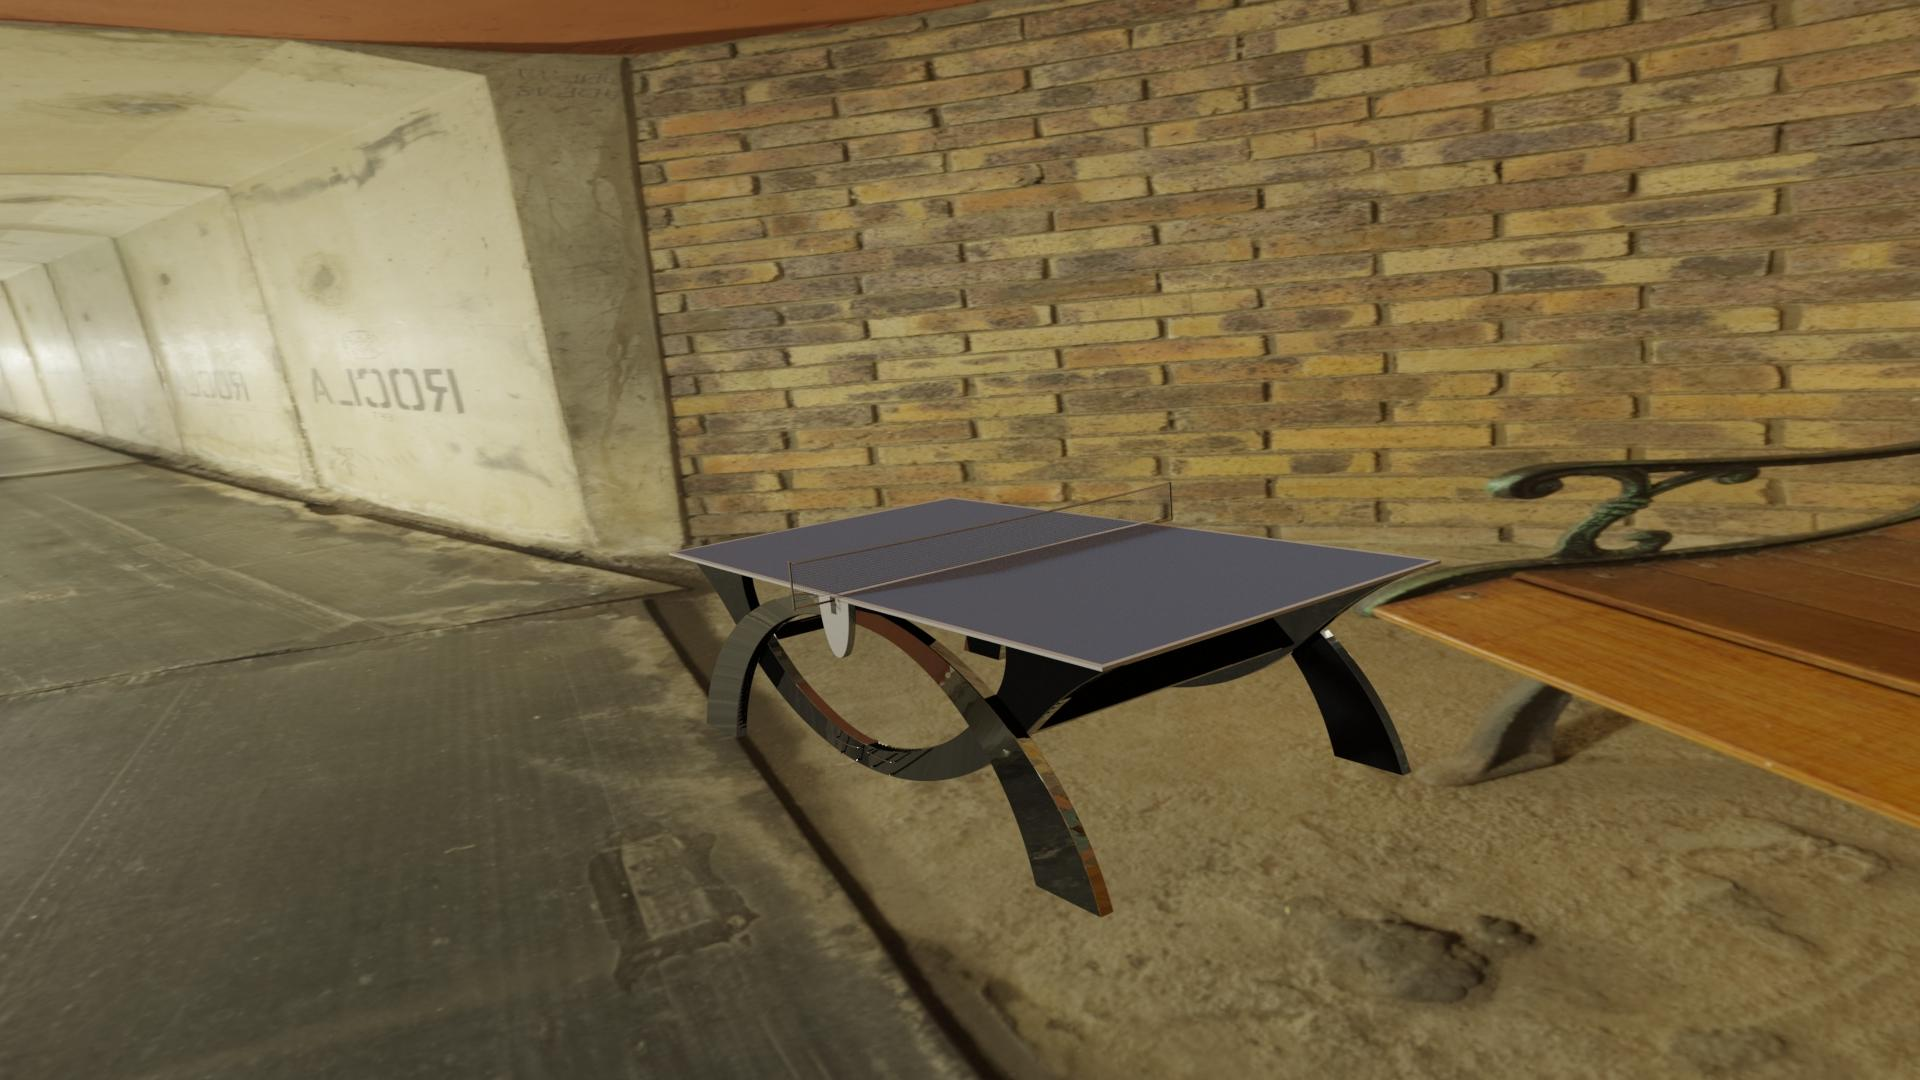table: (675, 498, 1432, 665)
